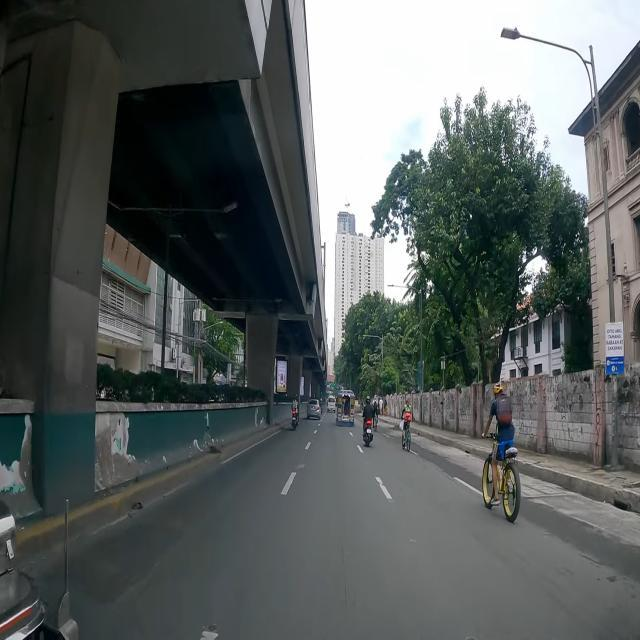bike: (482, 384, 520, 522), (400, 402, 413, 451), (372, 394, 378, 432)
car: (306, 398, 322, 418)
jeepney: (0, 492, 78, 640), (336, 391, 354, 426)
motorcycle: (363, 398, 374, 446), (290, 395, 300, 429)
